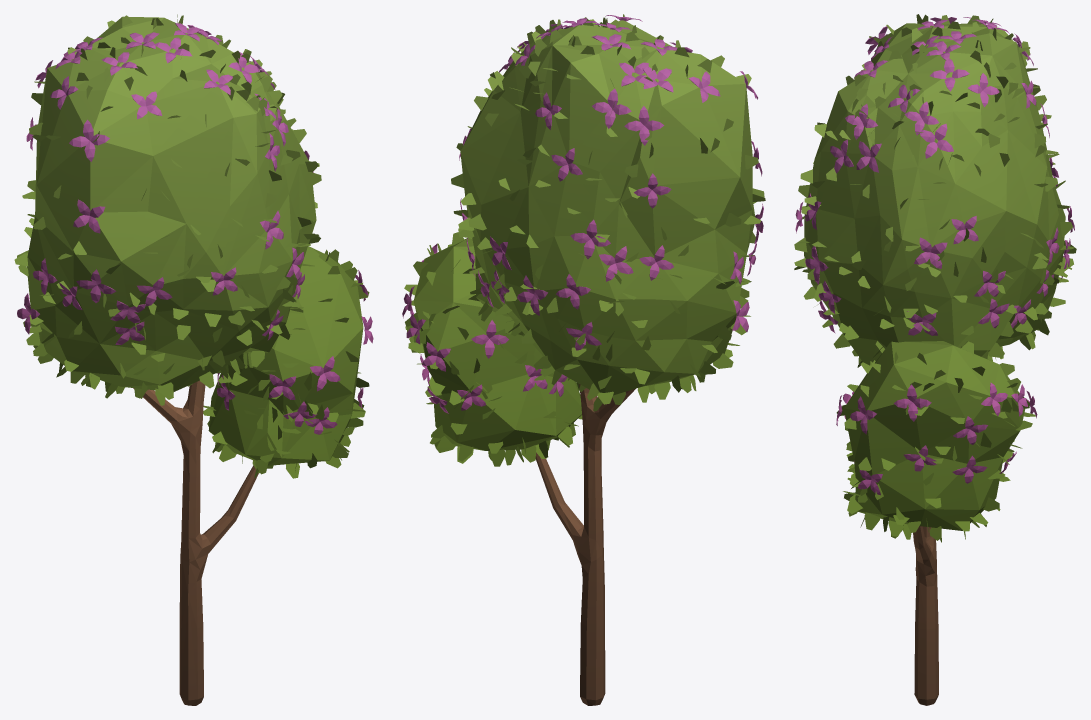
The model's file is Plant_07.fbx.
The picture shows the model from 3 angles, left to right: view 1: azimuth 30°, elevation 25°; view 2: azimuth 150°, elevation 25°; view 3: azimuth 270°, elevation 25°; orthographic projection. The views are drawn at different scales.
Parts seen in each view (by area): view 1: Plant_07_LOD0; view 2: Plant_07_LOD0; view 3: Plant_07_LOD0.
Part boxes in pixels (x1,y1,x2,y2): Plant_07_LOD0: (14,14,373,705); Plant_07_LOD0: (402,14,765,705); Plant_07_LOD0: (794,14,1076,705).
Size of what is drawn, in the model's own units: 0.889 by 1.75 by 0.6764.
